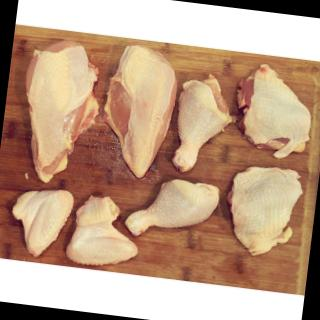Ayam: (12, 34, 111, 191), (96, 41, 185, 185), (228, 59, 320, 165), (219, 161, 309, 263), (167, 70, 248, 183), (124, 174, 223, 248), (63, 191, 147, 273), (7, 183, 79, 263)
